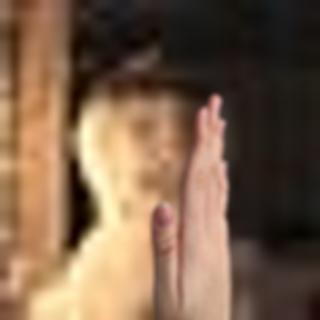Right: (137, 83, 245, 317)
